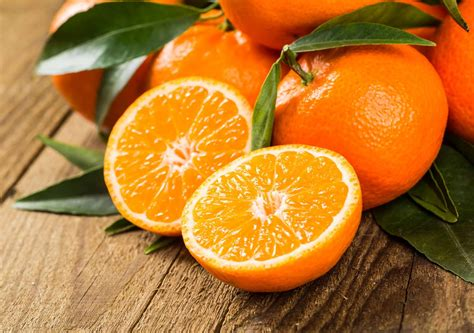orange: (245, 36, 449, 210)
